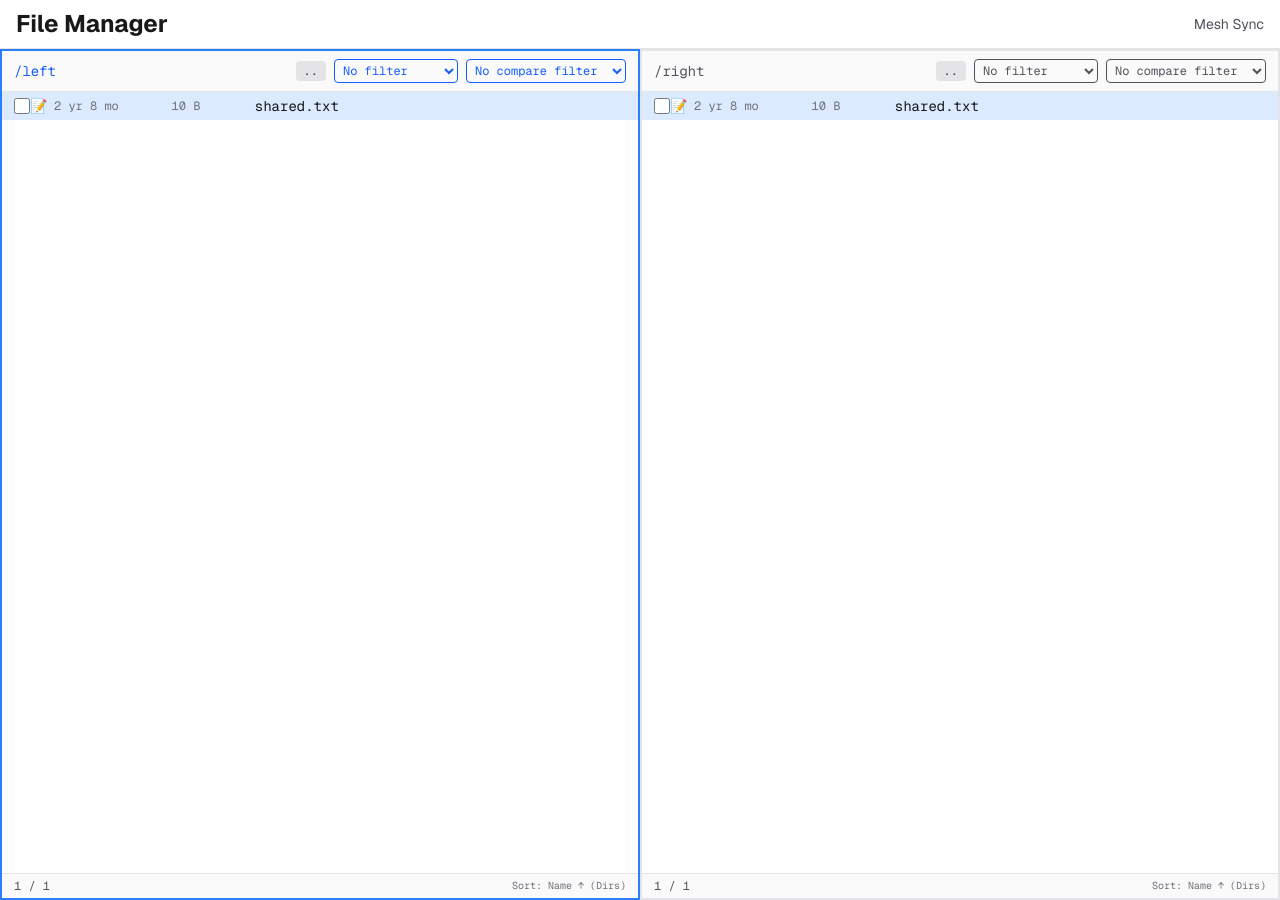
Test case: WorkspaceView execute command [PANE_COMMAND_EXEC] › opens Execute dialog from file row context menu and posts execute-command
Expected: the element with test id "pane-0" is shown, top-left (0, 49), bottom-right (640, 899)
Right-click the text "shared.txt" at (320, 106), box top-left (2, 92), bottom-right (638, 120)
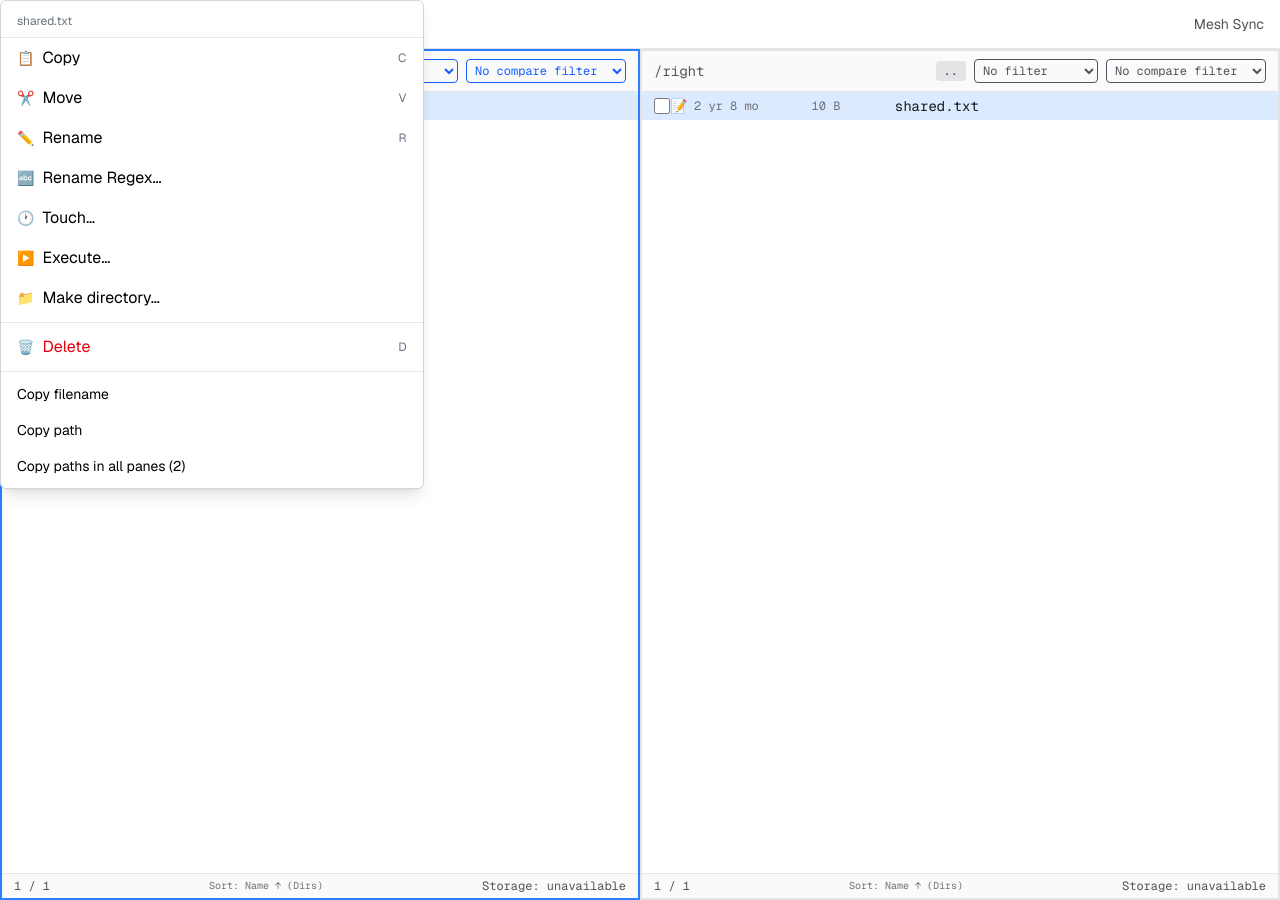
Click the menu item with test id "execute-file-menu-item" at (76, 258), box top-left (1, 238), bottom-right (422, 278)
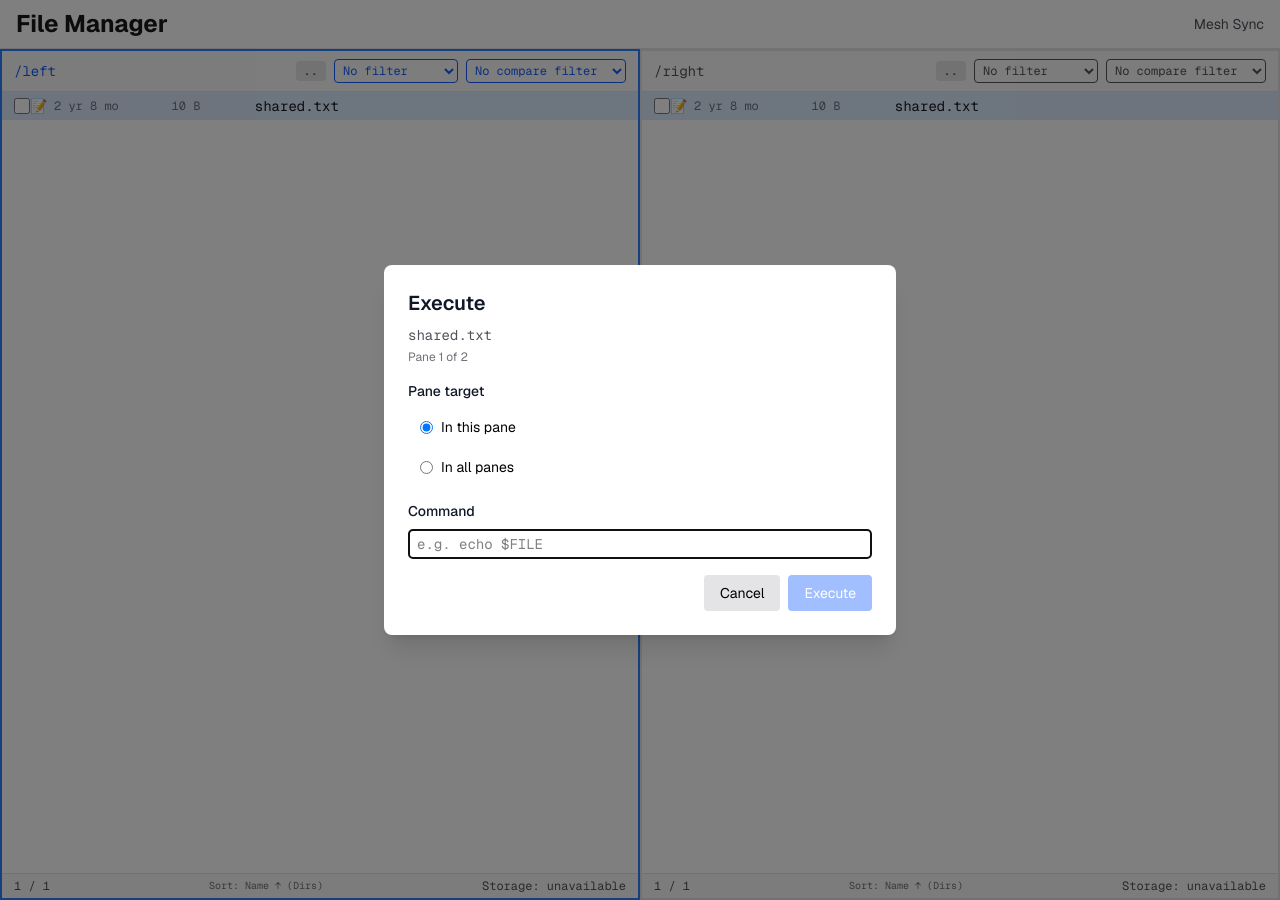
Now the dialog with test id "execute-file-dialog" is shown, box top-left (384, 265), bottom-right (896, 635)
Type "echo $FILE" into the field with test id "execute-command-input" at (640, 544), box top-left (408, 529), bottom-right (872, 559)
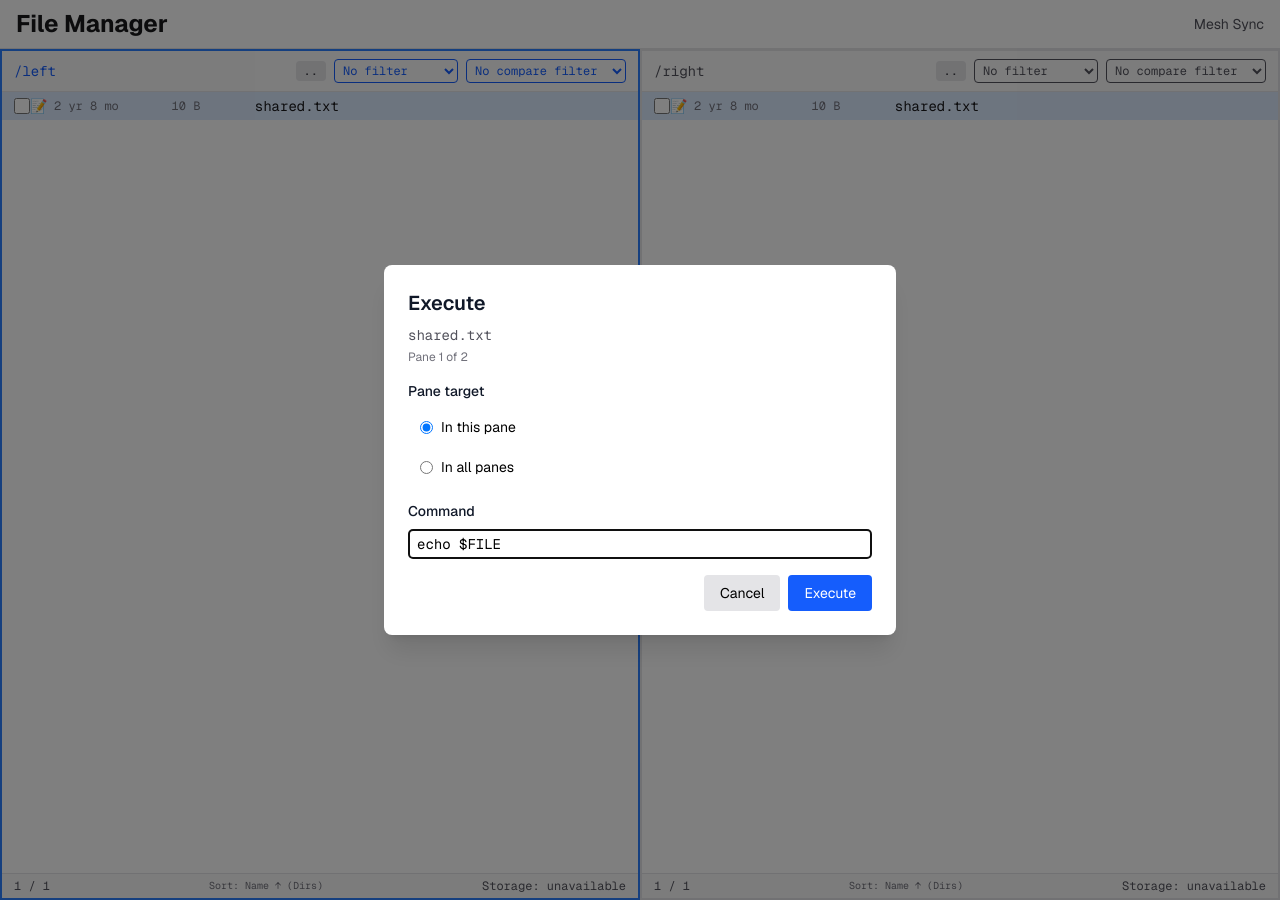
Click the radio button labelled "In all panes" at (426, 467), box top-left (420, 460), bottom-right (433, 474)
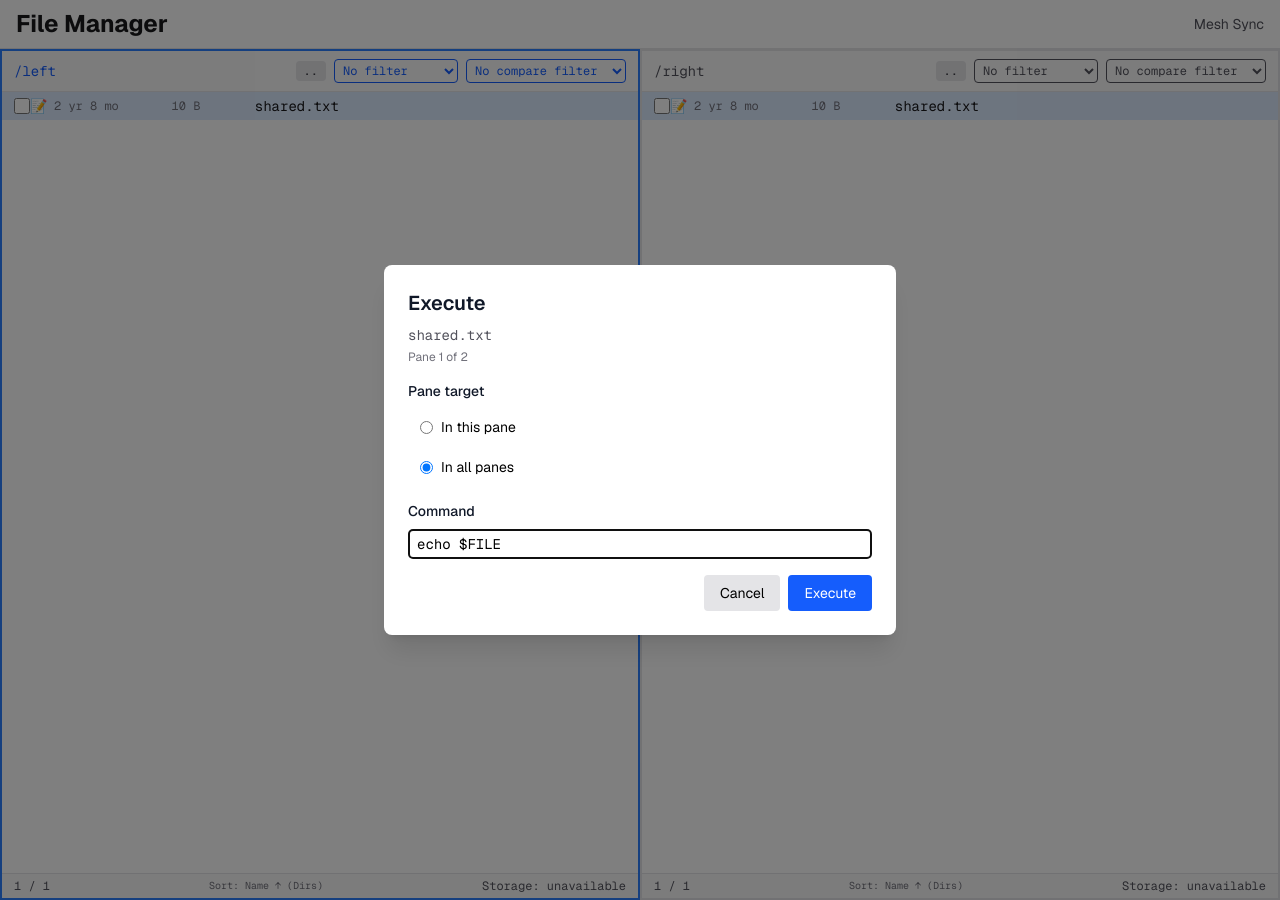
Click the button with test id "execute-file-apply" at (830, 593), box top-left (788, 575), bottom-right (872, 611)
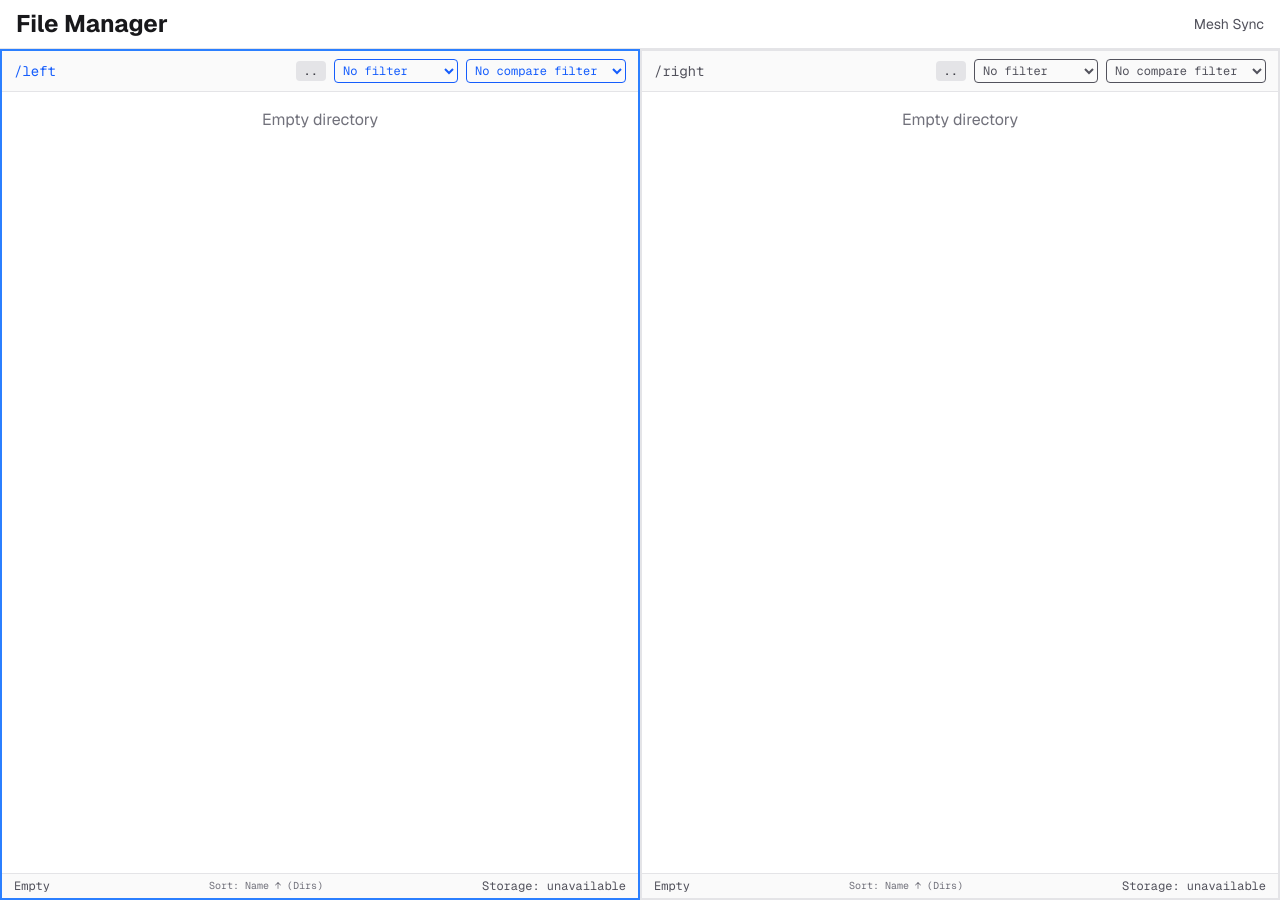
Now the dialog with test id "execute-file-dialog" is gone
